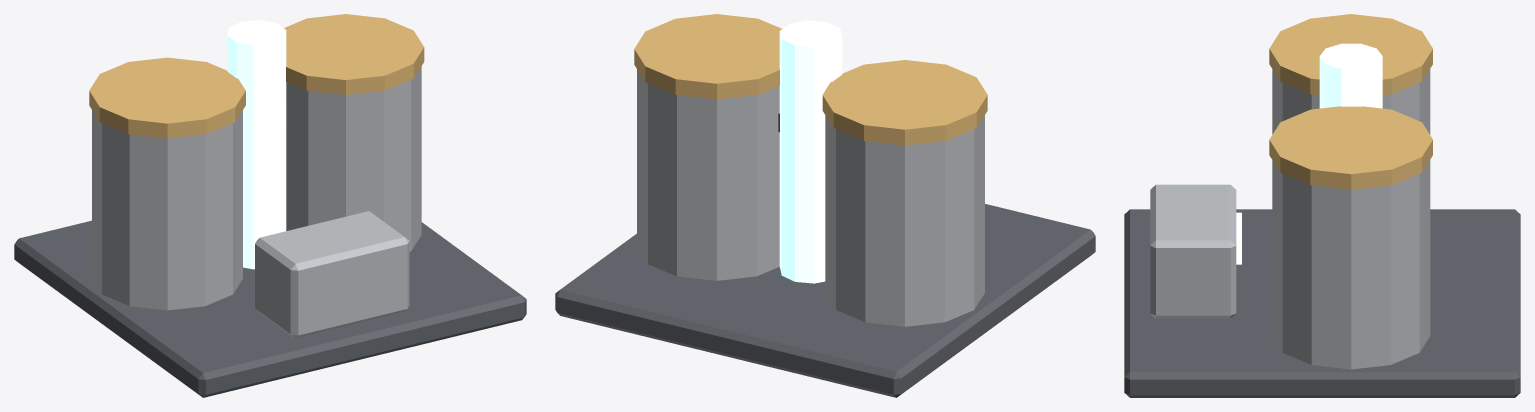
File: aether_refinery-7Y5bWmke.glb
The picture shows the model from 3 angles, left to right: view 1: azimuth 30°, elevation 25°; view 2: azimuth 150°, elevation 25°; view 3: azimuth 270°, elevation 25°; orthographic projection. The views are drawn at different scales.
Parts seen in each view (by area): view 1: slab; view 2: slab; view 3: slab.
Boxes of the visible parts, box(x1,y1,x2,y2) form: slab: box(14, 14, 526, 397); slab: box(555, 14, 1095, 397); slab: box(1124, 14, 1520, 397).
Bounding box in the file's own units: 2.76 × 2 × 2.76.
